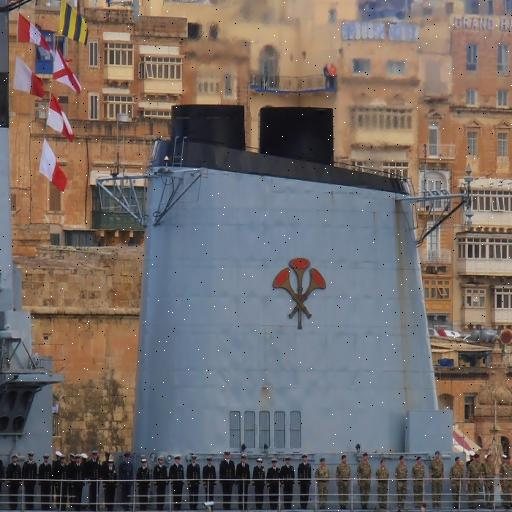Portanaves: (7, 15, 512, 512)
